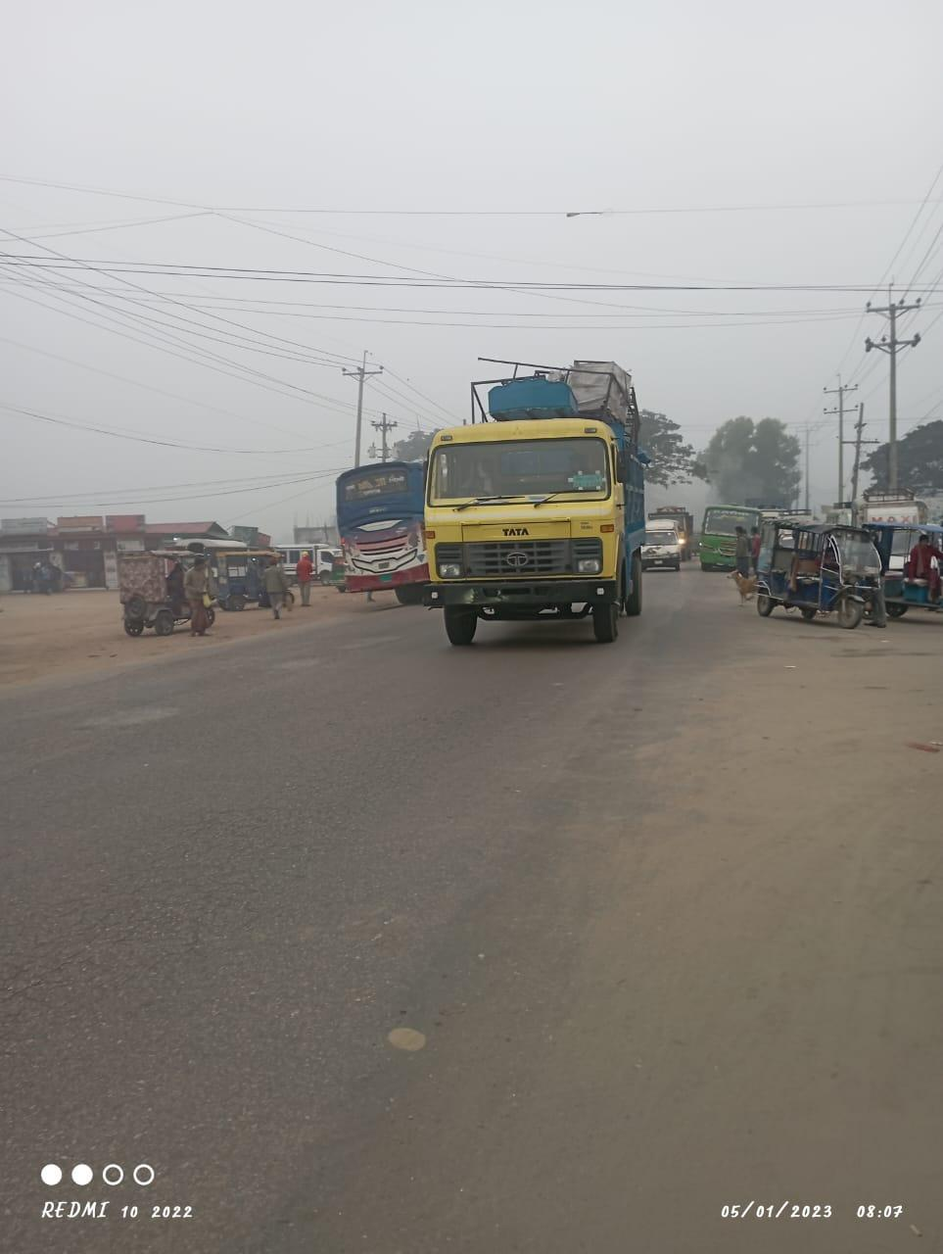Bus: (326, 451, 433, 607), (697, 497, 765, 581)
Car: (752, 508, 874, 655), (106, 534, 224, 632), (646, 512, 683, 579)
Truck: (421, 346, 644, 642)
